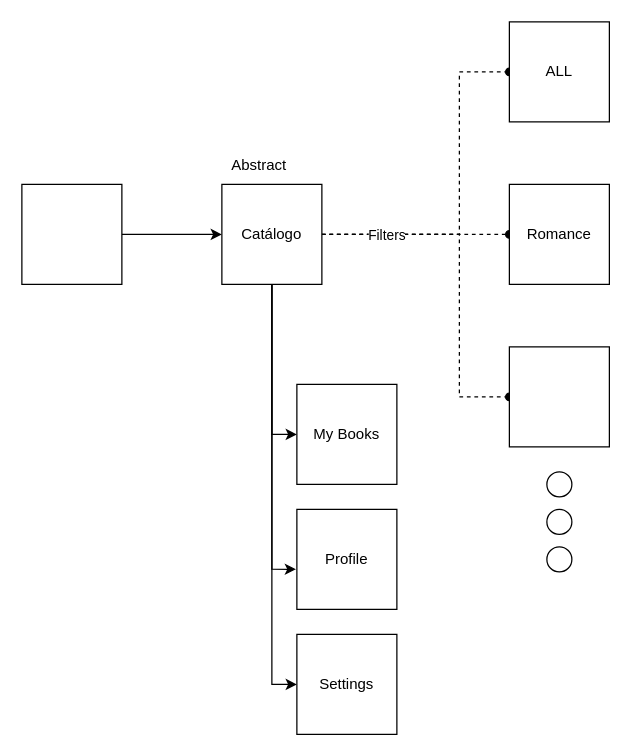
The diagram is 631 pixels wide and 756 high, and some of its shapes have lost their labels. Each missing label, with the centre of its shape:
"Classicos" belongs at (558,396).
"Login" belongs at (71,233).
